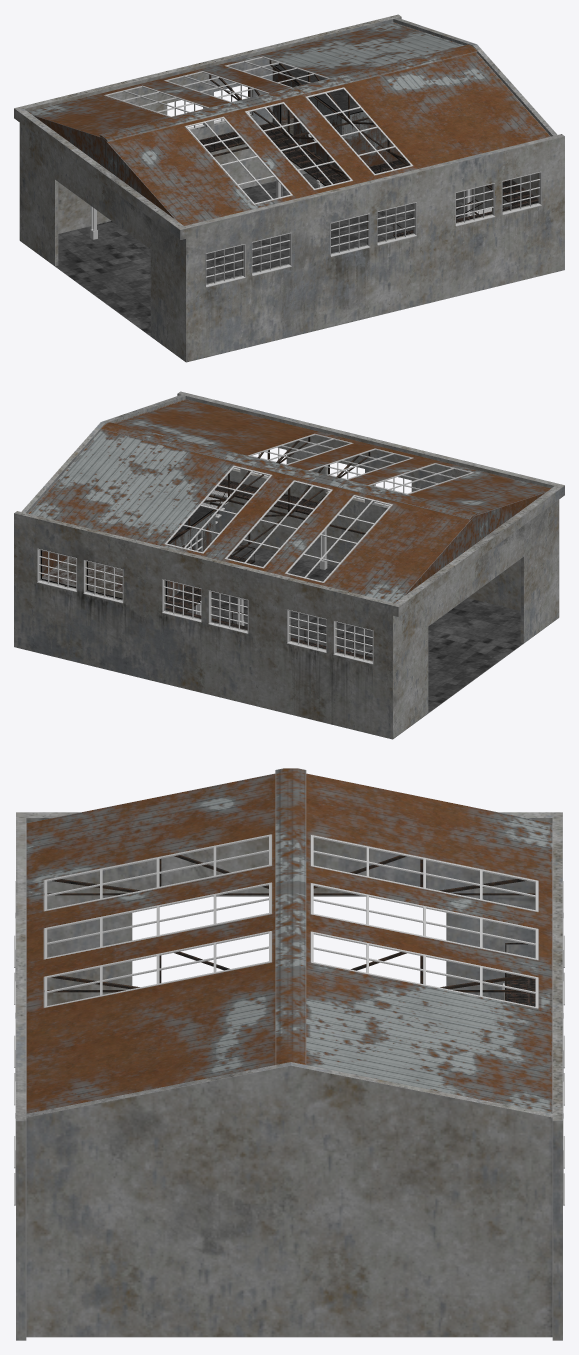
Rendered from warehouse obj.gltf.
3 renders of one model, top to bottom at view 1: azimuth 30°, elevation 25°; view 2: azimuth 150°, elevation 25°; view 3: azimuth 270°, elevation 25°, orthographic. The views are drawn at different scales.
Visible parts, largest first — view 1: node-0; view 2: node-0; view 3: node-0.
Part boxes in pixels (<box>): node-0: <box>14,14,564,362</box>; node-0: <box>14,391,564,739</box>; node-0: <box>14,768,564,1340</box>.
Size of the model in its own units: 29.16 by 11.99 by 22.02.
